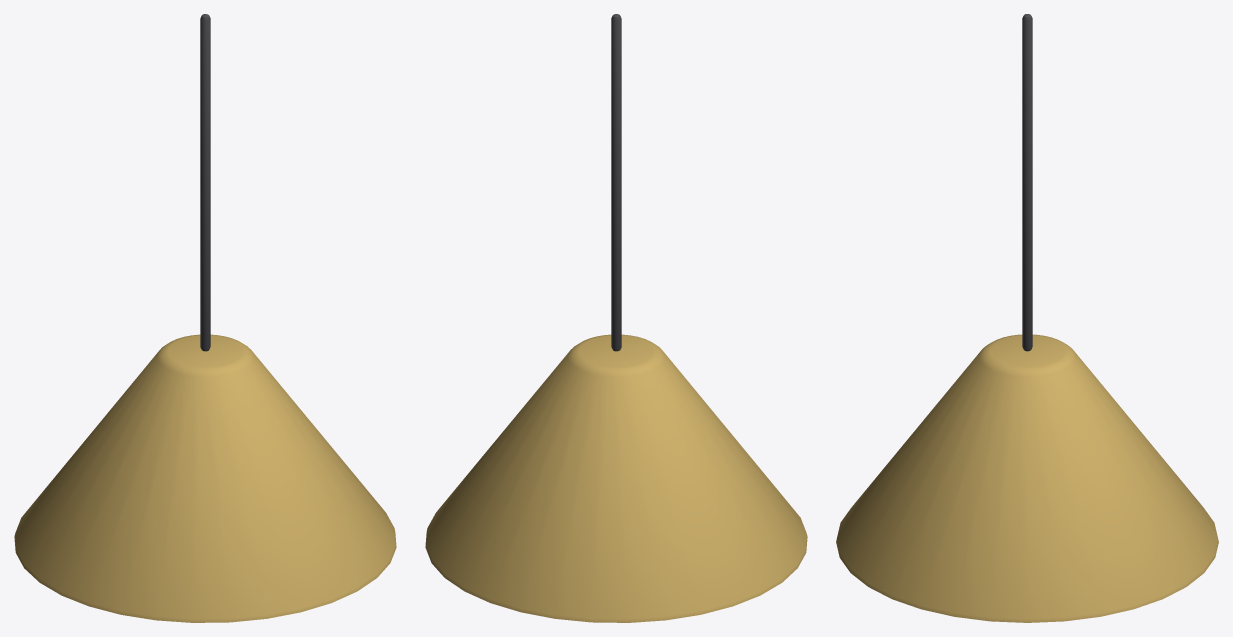
The model's file is pendant.glb.
3 renders of one model, left to right at view 1: azimuth 30°, elevation 25°; view 2: azimuth 150°, elevation 25°; view 3: azimuth 270°, elevation 25°, orthographic.
Parts seen in each view (by area): view 1: shade, cord; view 2: shade, cord; view 3: shade, cord.
Boxes of the visible parts, bbox=[...] form: shade: bbox=[14, 334, 396, 622]; cord: bbox=[200, 14, 210, 351]; shade: bbox=[425, 334, 807, 622]; cord: bbox=[611, 14, 621, 351]; shade: bbox=[836, 334, 1218, 622]; cord: bbox=[1022, 14, 1032, 351].
Size of the model in its own units: 0.4326 by 0.66 by 0.4326.
